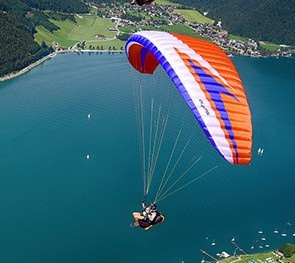Paraglider: (125, 32, 254, 169)
